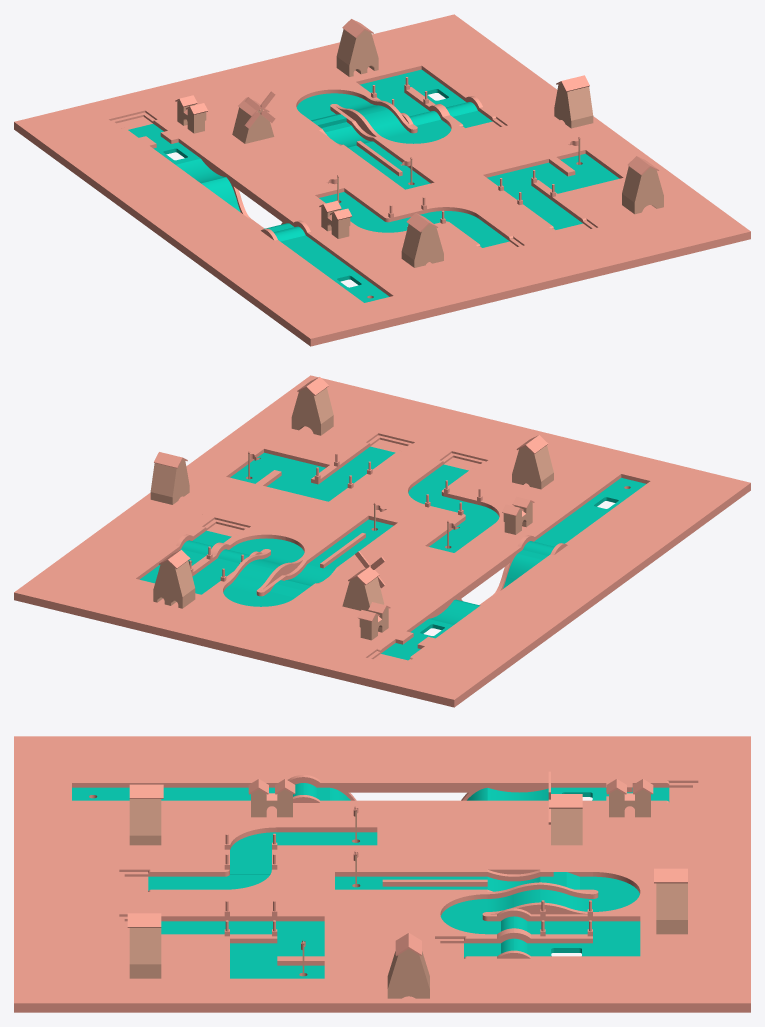
File: Mini Golf Course.fbx
The picture shows the model from 3 angles, top to bottom: view 1: azimuth 30°, elevation 25°; view 2: azimuth 150°, elevation 25°; view 3: azimuth 270°, elevation 25°; orthographic projection. The views are drawn at different scales.
Parts seen in each view (by area): view 1: mergedBlocks; view 2: mergedBlocks; view 3: mergedBlocks.
Part boxes in pixels (x1,y1,x2,y2): mergedBlocks: (14, 14, 750, 346); mergedBlocks: (14, 375, 750, 707); mergedBlocks: (14, 736, 750, 1012).
Bounding box in the file's own units: 12000 × 2209 × 14000.
